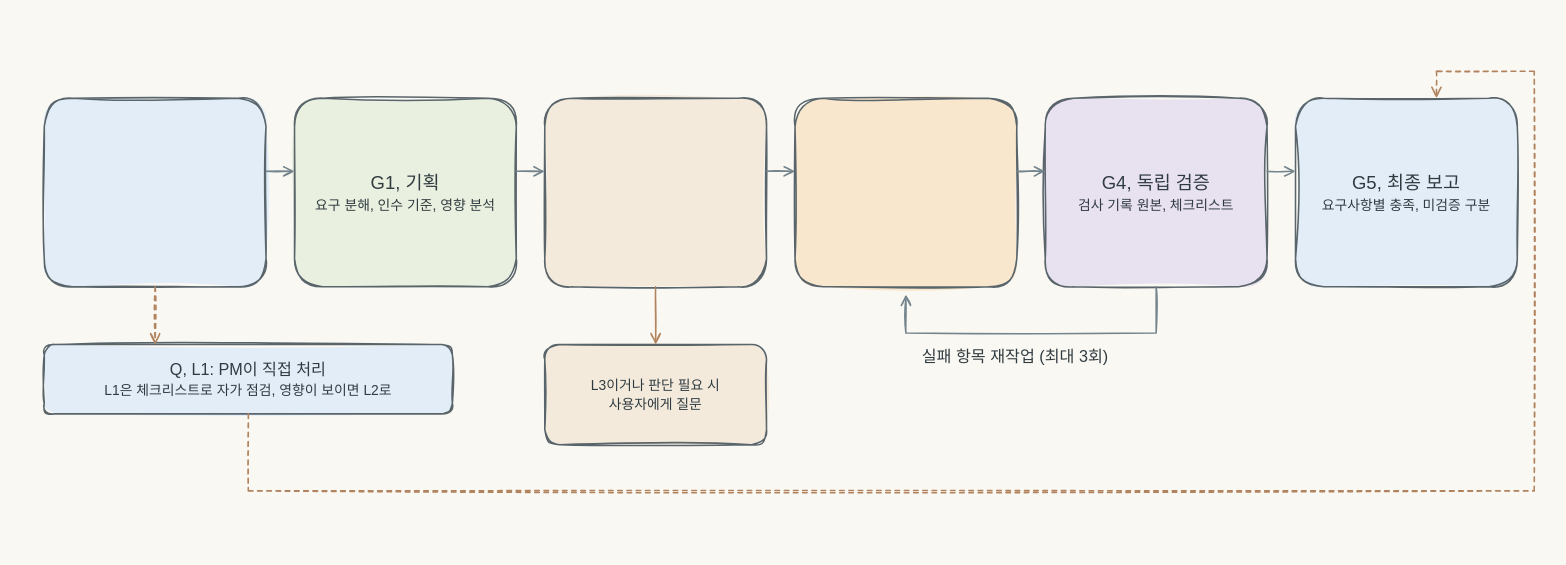
The diagram is 1566 pixels wide and 565 high, and some of its shapes have lost their labels. Here are the shapes that lost their labels. From the top down, the box of each, then its label:
(43, 97, 266, 287): G0, /subagent-workflow:run, 접수, 분류 Q, L1, L2, L3로 분류
(544, 97, 767, 287): G2, 컨펌 L3는 항상 사용자 확인
(794, 97, 1017, 287): G3, 개발 승인된 파일만, 순차 쓰기
